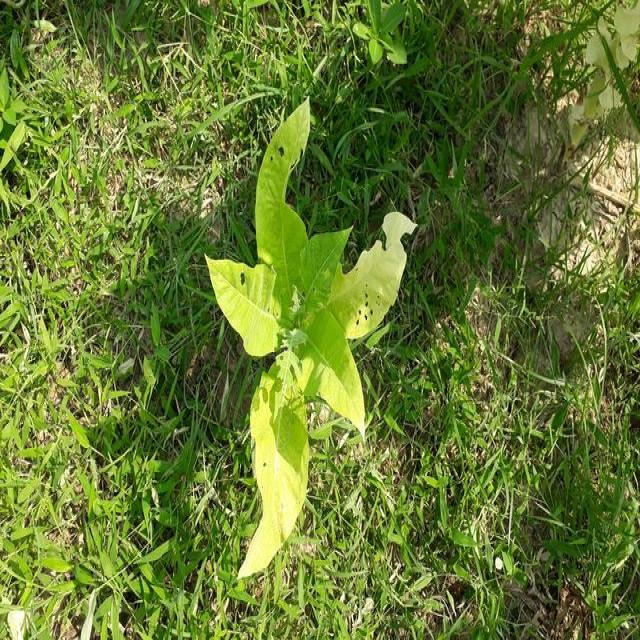crop: (217, 119, 413, 582)
